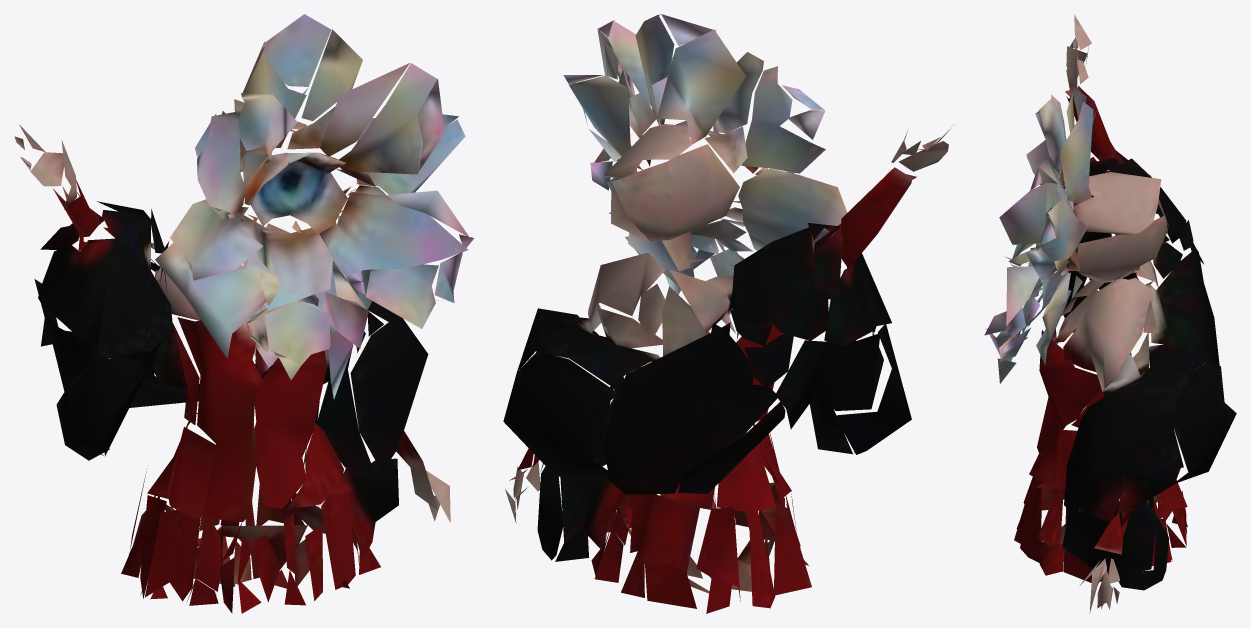
The model's file is crowd_loretta_upper.glb.
3 views of the same model, side by side, from view 1: azimuth 30°, elevation 25°; view 2: azimuth 150°, elevation 25°; view 3: azimuth 270°, elevation 25° (orthographic). The views are drawn at different scales.
Parts seen in each view (by area): view 1: tripo_node_185166c0-c877-42b5-ac3a-c83c0cdb6d57; view 2: tripo_node_185166c0-c877-42b5-ac3a-c83c0cdb6d57; view 3: tripo_node_185166c0-c877-42b5-ac3a-c83c0cdb6d57.
Boxes of the visible parts, x1=… form: tripo_node_185166c0-c877-42b5-ac3a-c83c0cdb6d57: x1=14, y1=14, x2=474, y2=613; tripo_node_185166c0-c877-42b5-ac3a-c83c0cdb6d57: x1=503, y1=14, x2=954, y2=613; tripo_node_185166c0-c877-42b5-ac3a-c83c0cdb6d57: x1=984, y1=14, x2=1236, y2=613.
Size of the model in its own units: 0.505 by 0.5929 by 0.2955.
1 material, 1 textured.
